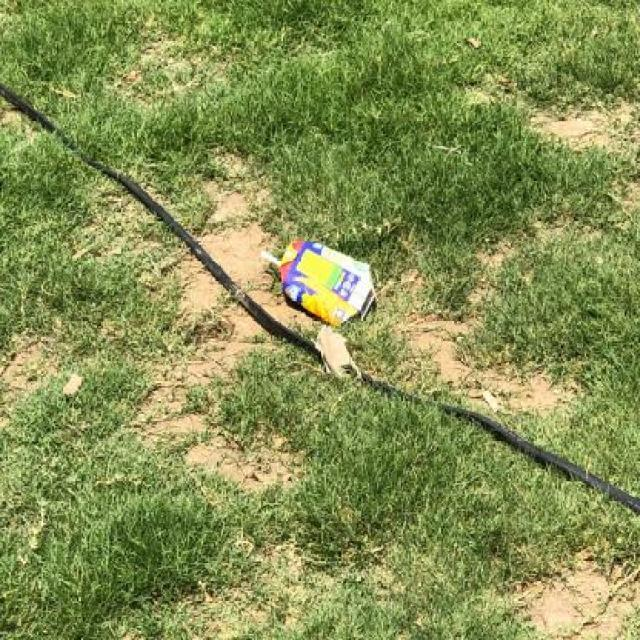garbage: (260, 239, 387, 398)
